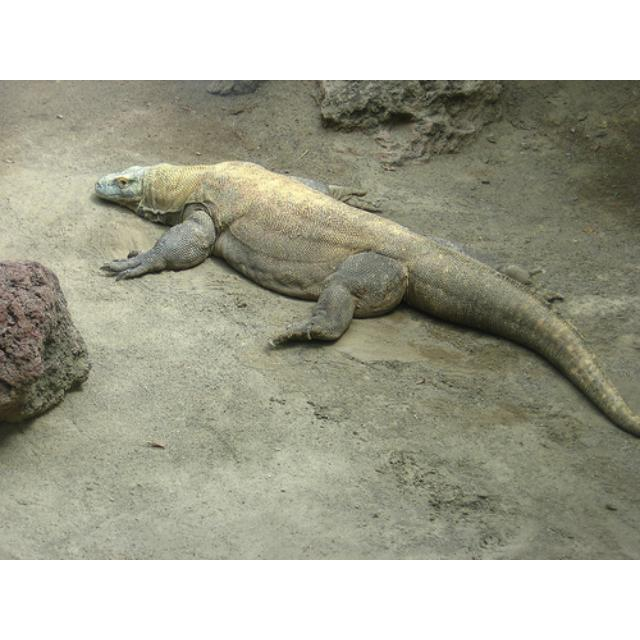KomodoDragon: (91, 157, 637, 445)
